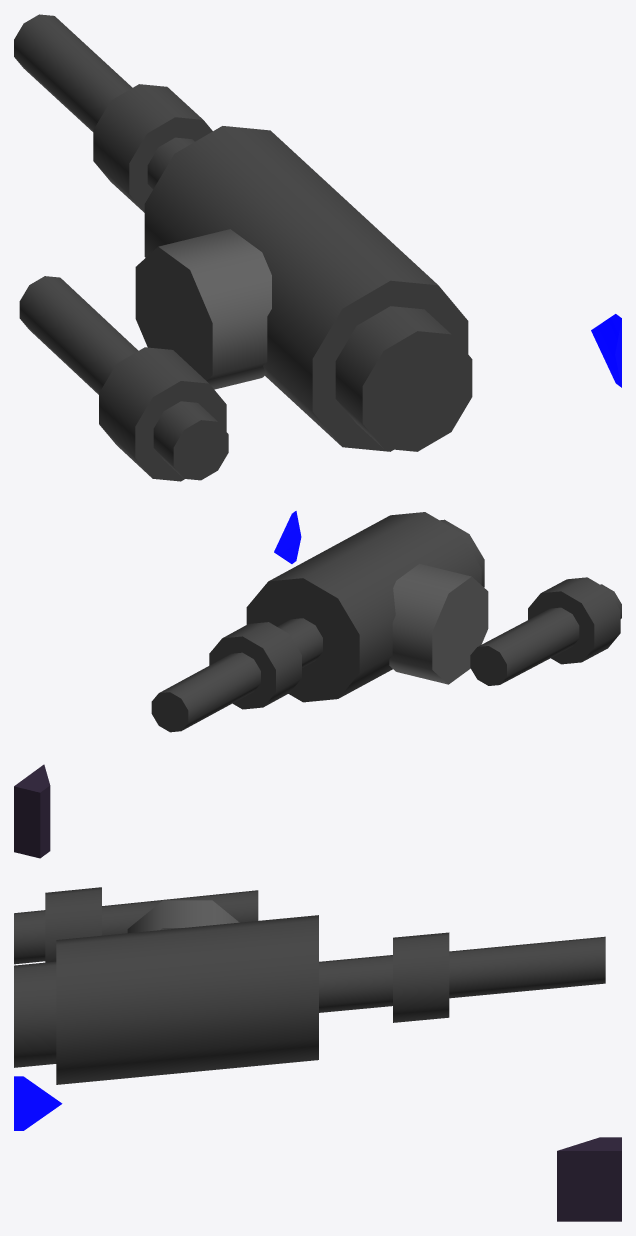
File: newshb-39.glb
3 renders of one model, top to bottom at view 1: azimuth 30°, elevation 25°; view 2: azimuth 150°, elevation 25°; view 3: azimuth 270°, elevation 25°, orthographic. The views are drawn at different scales.
Parts seen in each view (by area): view 1: newshb-39; view 2: newshb-39; view 3: newshb-39.
Boxes of the visible parts, <box> form: newshb-39: <box>14,14,621,481</box>; newshb-39: <box>14,511,621,858</box>; newshb-39: <box>14,887,621,1221</box>.
Bounding box in the file's own units: 1.62 × 0.9449 × 2.33.
